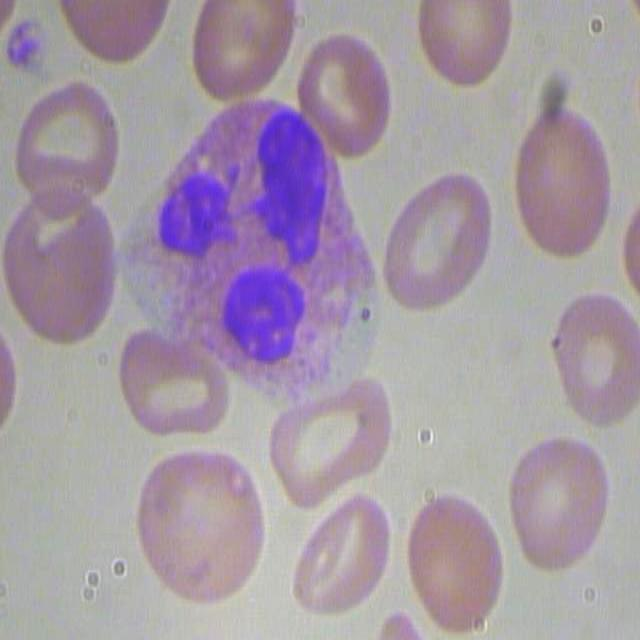RBC: (133, 440, 270, 608), (1, 168, 117, 354), (265, 366, 393, 516), (508, 106, 616, 264), (377, 167, 492, 314), (502, 429, 608, 572), (12, 72, 125, 202), (404, 490, 504, 634), (290, 491, 398, 621), (118, 321, 228, 448), (298, 29, 392, 166), (547, 292, 637, 431), (182, 0, 294, 106), (414, 0, 516, 83), (55, 0, 174, 66)
WBC: (162, 107, 366, 366)
platelets: (3, 12, 55, 84)
